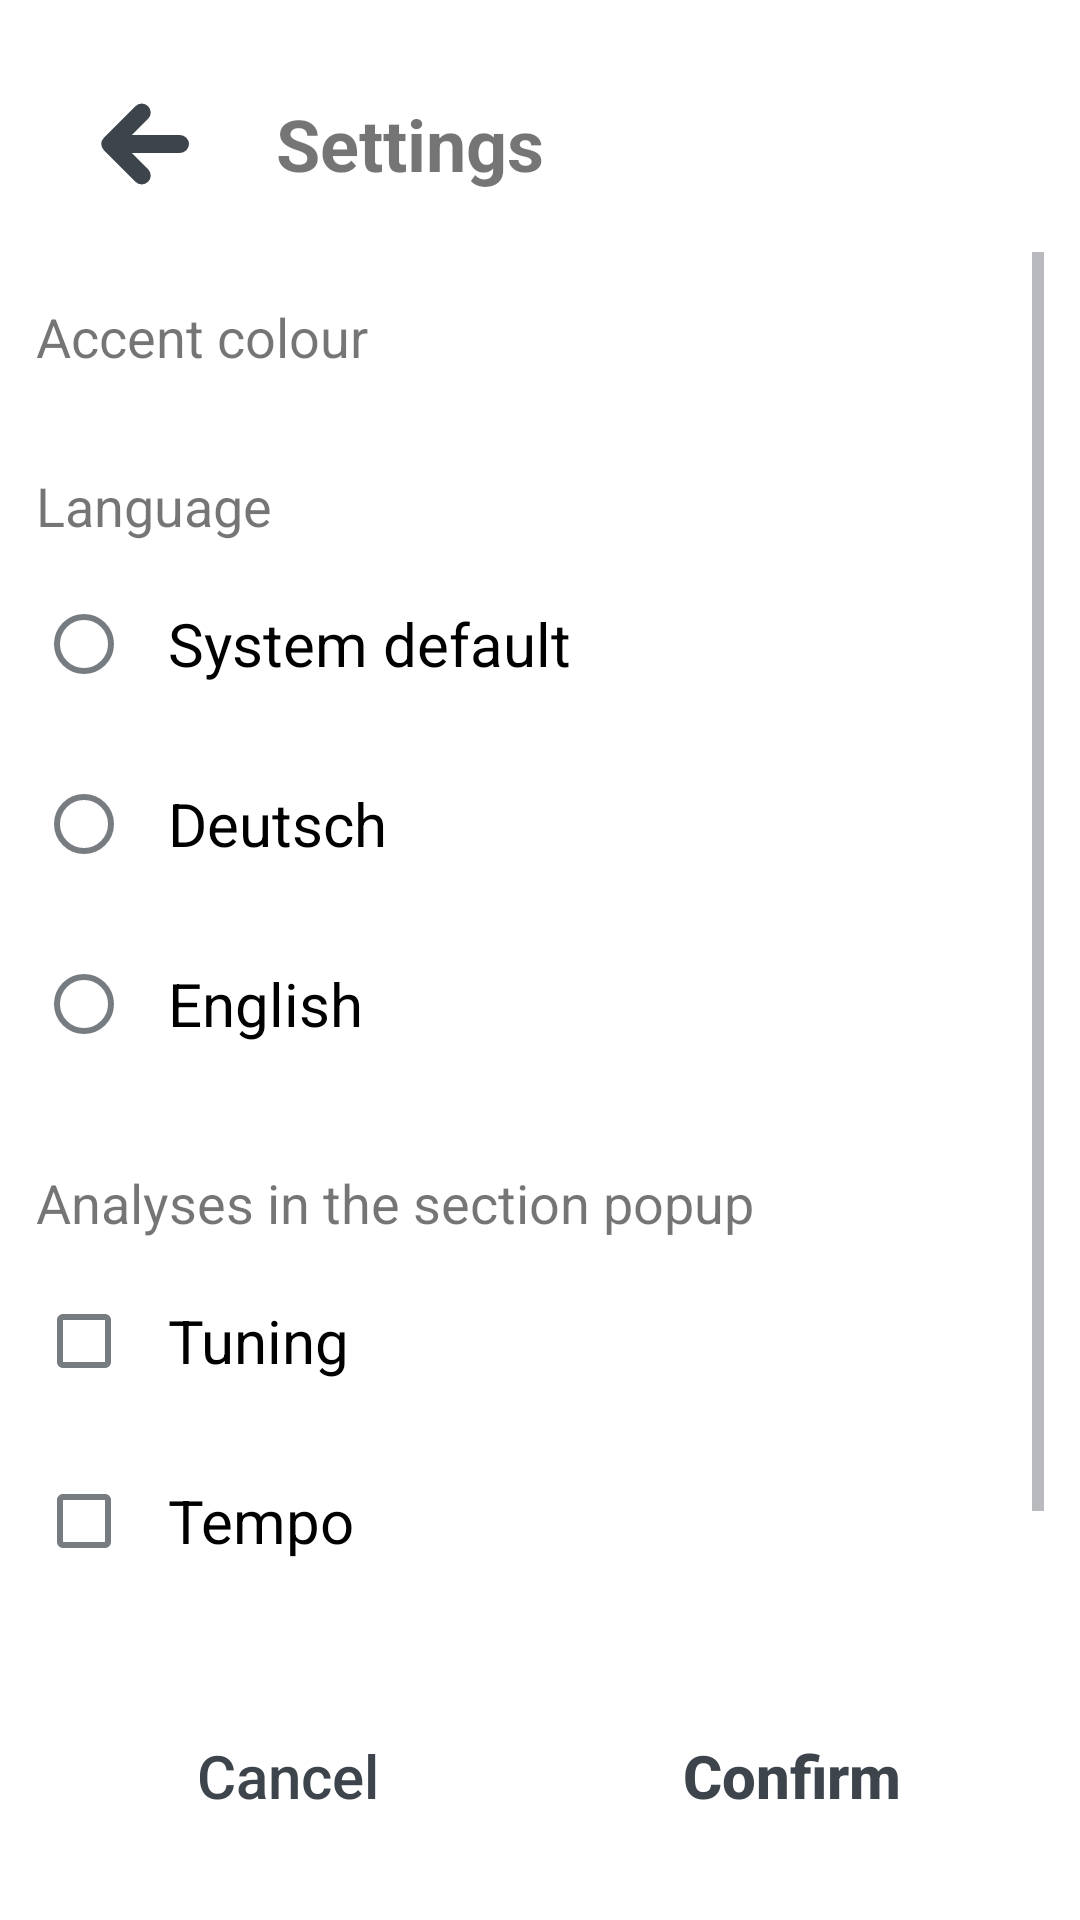

Icons on this 1080x1920 Android screen, each with the point to tap as (x,y):
Back: (145,144)
